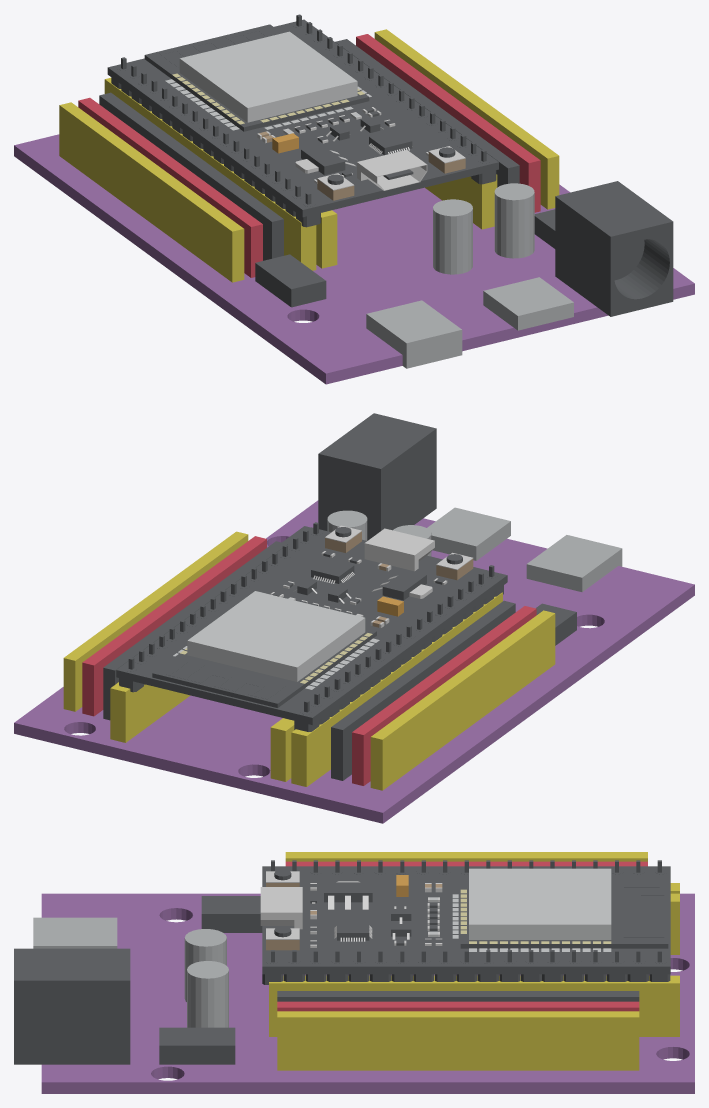
Rendered from esp32.glb.
3 views of the same model, one above another, from view 1: azimuth 30°, elevation 25°; view 2: azimuth 150°, elevation 25°; view 3: azimuth 270°, elevation 25° (orthographic). The views are drawn at different scales.
Visible parts, largest first — view 1: Mesh_Mesh_head_geo.001_lambert2SG.001; view 2: Mesh_Mesh_head_geo.001_lambert2SG.001; view 3: Mesh_Mesh_head_geo.001_lambert2SG.001.
Boxes of the visible parts, box(x1,y1,x2,y2) form: Mesh_Mesh_head_geo.001_lambert2SG.001: box(14, 14, 694, 384); Mesh_Mesh_head_geo.001_lambert2SG.001: box(14, 413, 694, 823); Mesh_Mesh_head_geo.001_lambert2SG.001: box(14, 852, 694, 1093).
Size of the model in its own units: 53 by 13.23 by 80.88.
